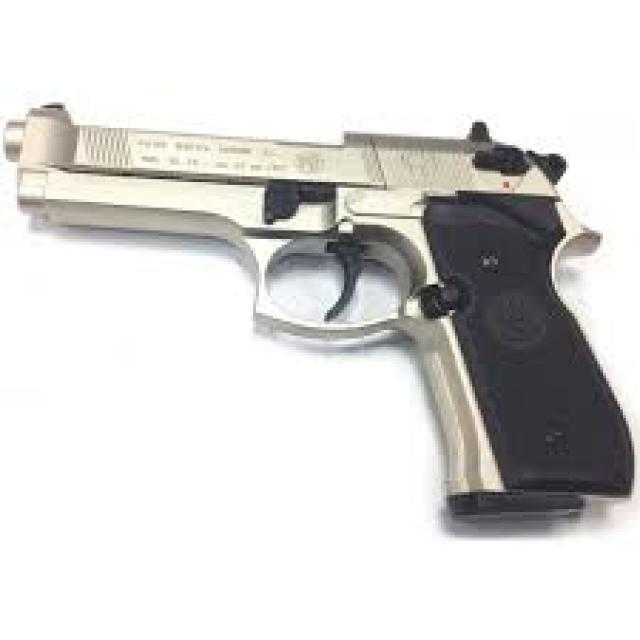pistol: (1, 98, 640, 543)
